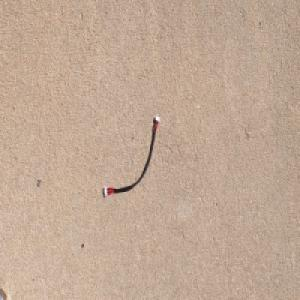Wire: (103, 114, 160, 198)
